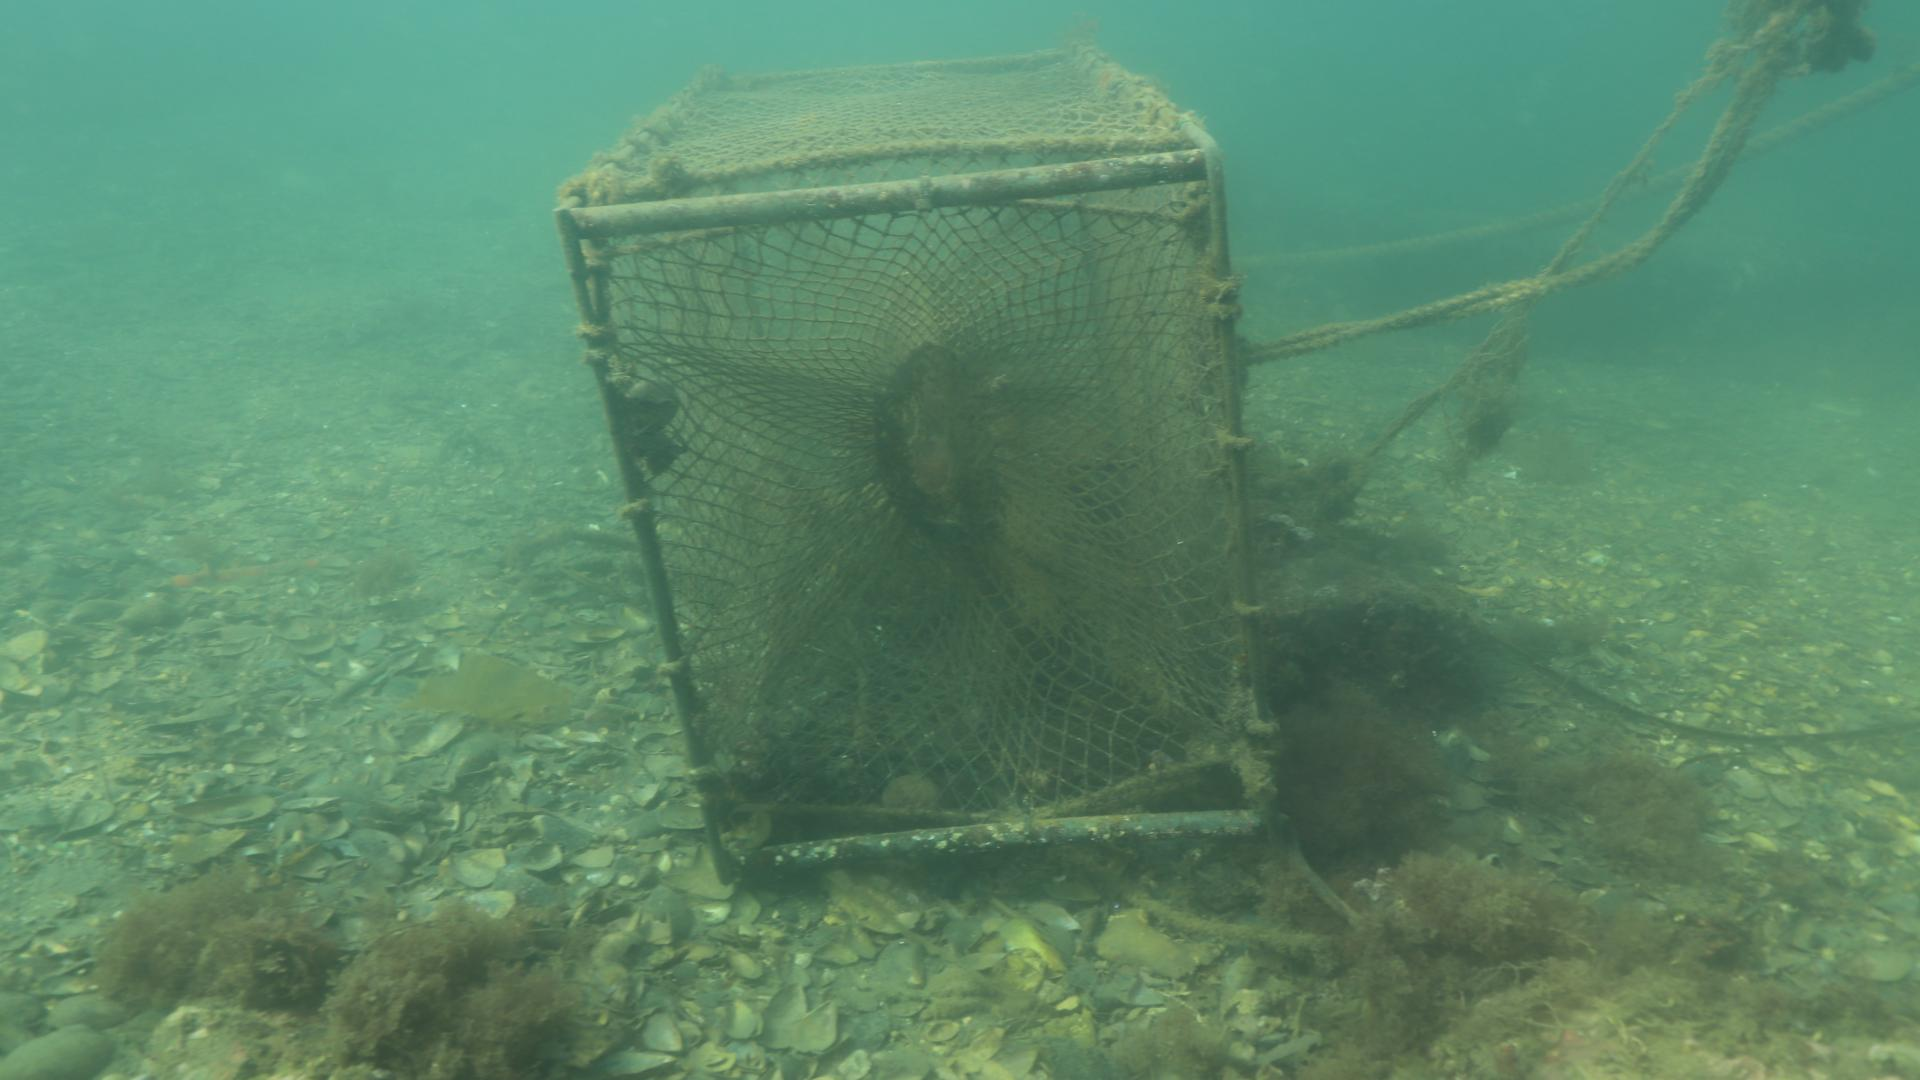bundle of ropes: (1244, 63, 1779, 371)
rectangular fish trap: (549, 38, 1284, 889)
